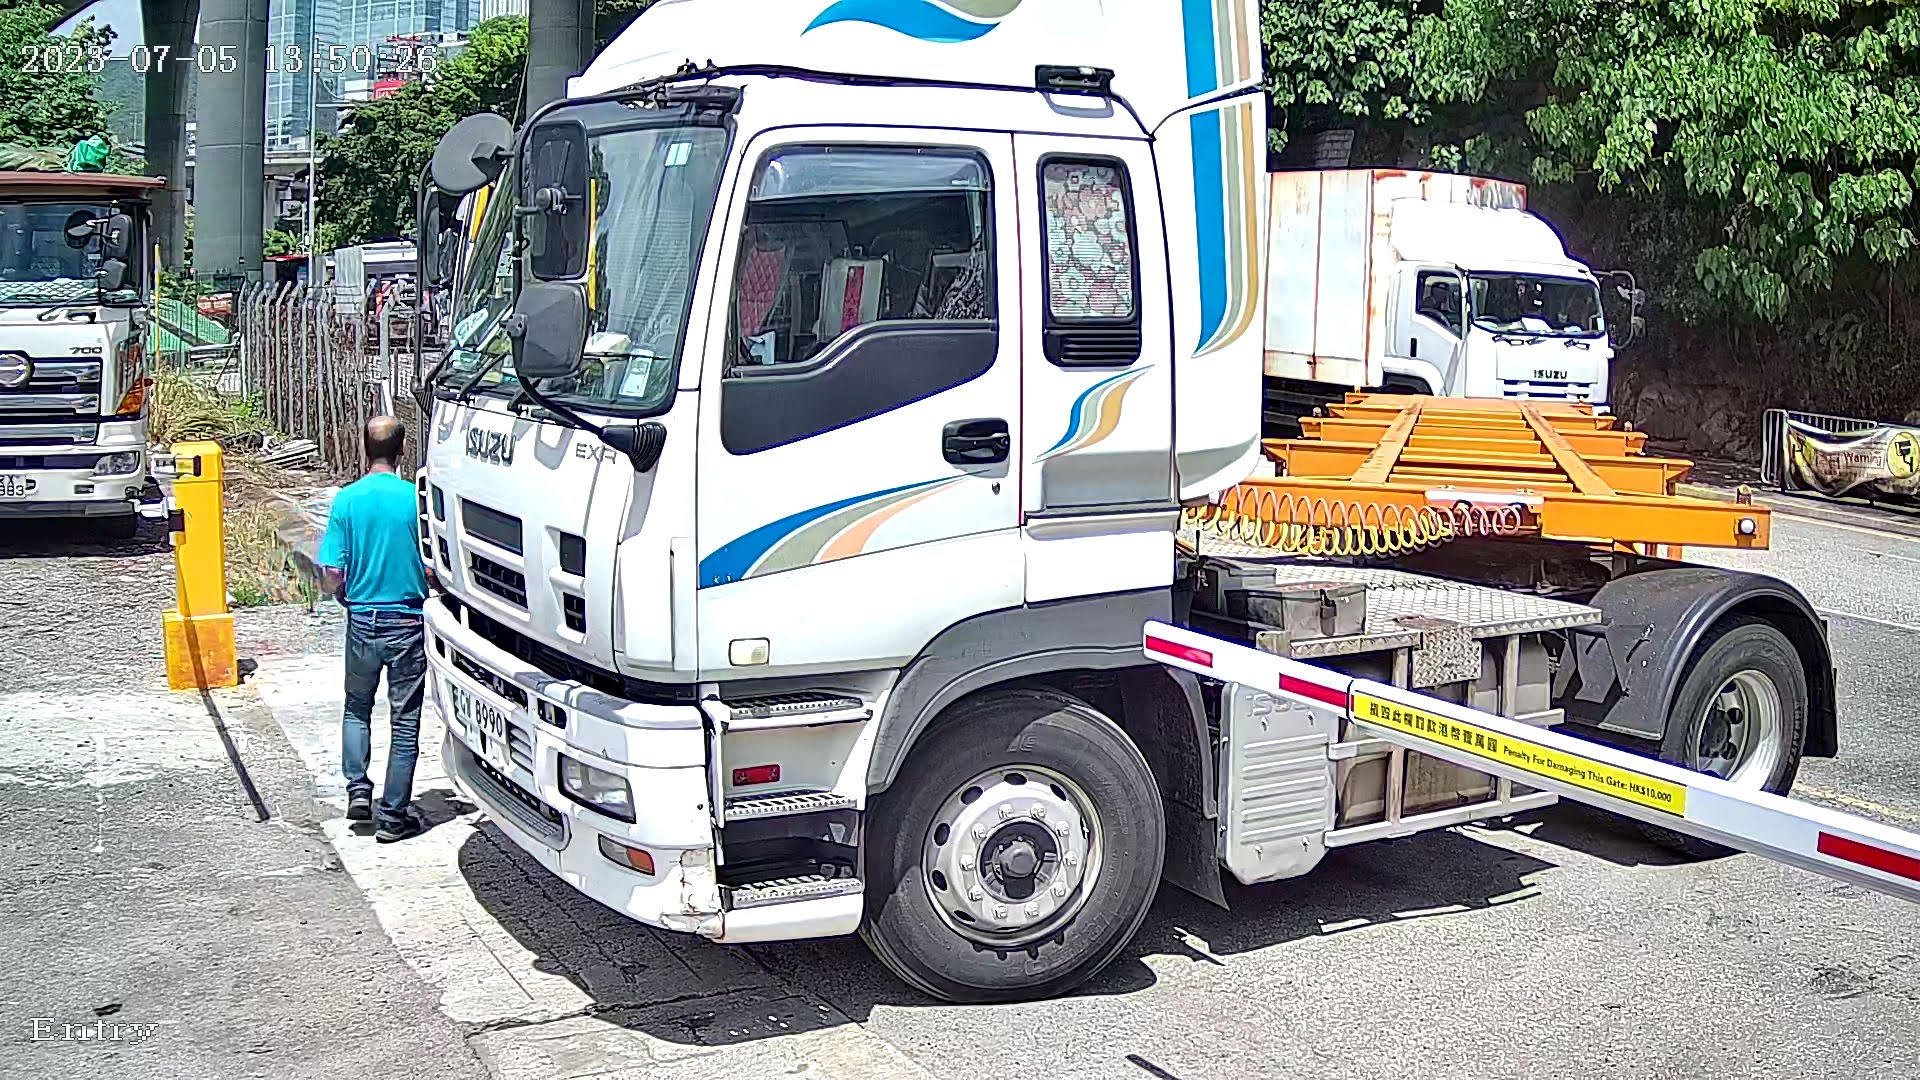truck: (371, 1, 1855, 1029)
